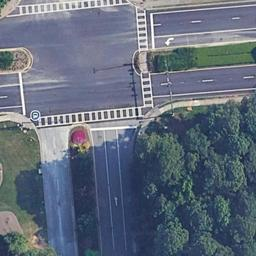Crosswalk: (33, 105, 143, 127), (5, 1, 128, 18), (134, 5, 154, 106)
Left Turn Arrow: (163, 36, 176, 46)
Stopline: (19, 72, 27, 116), (92, 125, 139, 129), (151, 14, 155, 49)
Stright Arrow: (115, 129, 128, 252), (102, 130, 115, 252), (154, 26, 256, 38), (152, 87, 256, 94), (1, 82, 20, 87), (113, 194, 120, 207), (1, 104, 23, 108)
White Dashed Line: (152, 14, 250, 25), (158, 75, 256, 85)
